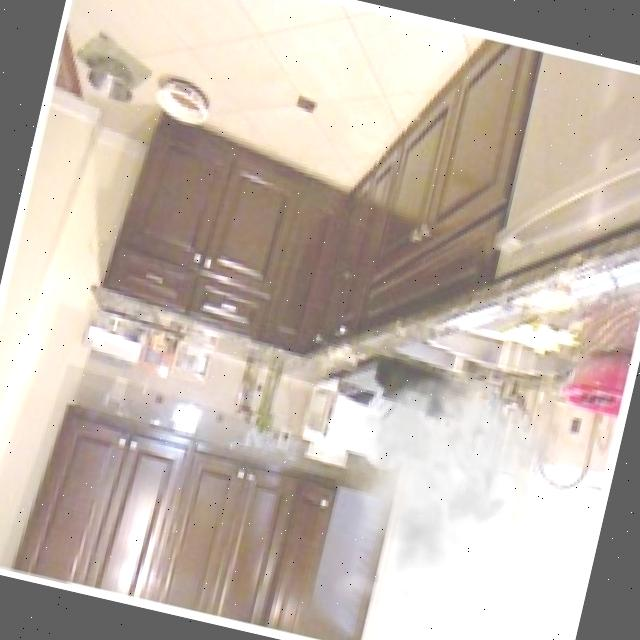smoke: (285, 341, 576, 640)
